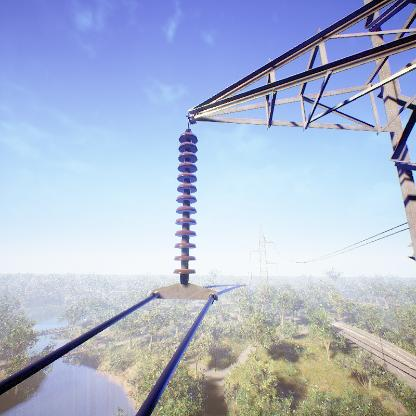insulator: (171, 132, 200, 279)
